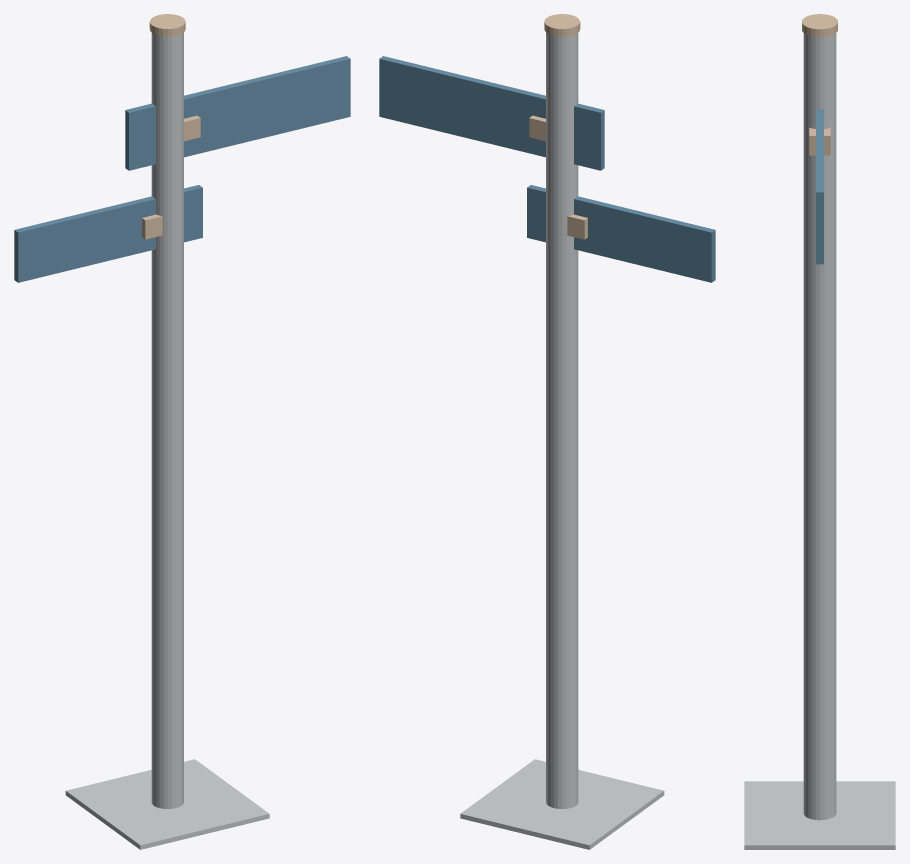
File: SIG-DEMO-01.glb
3 views of the same model, side by side, from view 1: azimuth 30°, elevation 25°; view 2: azimuth 150°, elevation 25°; view 3: azimuth 270°, elevation 25° (orthographic).
Parts seen in each view (by area): view 1: poste, placa_direccional_a, placa_base, placa_direccional_b, herrajes, tapa_poste; view 2: poste, placa_direccional_a, placa_base, placa_direccional_b, herrajes, tapa_poste; view 3: poste, placa_base, placa_direccional_a, tapa_poste, herrajes.
Part boxes in pixels (box(x1,y1,x2,y2)): poste: box(151, 32, 183, 808); placa_direccional_a: box(125, 56, 350, 170); placa_base: box(65, 759, 269, 849); placa_direccional_b: box(14, 185, 202, 282); herrajes: box(142, 115, 200, 239); tapa_poste: box(149, 14, 185, 36); poste: box(546, 32, 578, 808); placa_direccional_a: box(379, 56, 604, 170); placa_base: box(460, 759, 664, 849); placa_direccional_b: box(527, 185, 715, 282); herrajes: box(529, 115, 587, 239); tapa_poste: box(544, 14, 580, 36); poste: box(803, 33, 836, 820); placa_base: box(744, 781, 895, 849); placa_direccional_a: box(816, 109, 823, 250); tapa_poste: box(802, 14, 837, 36); herrajes: box(809, 127, 830, 155).
Bounding box in the file's own units: 0.9 × 2.03 × 0.35.
